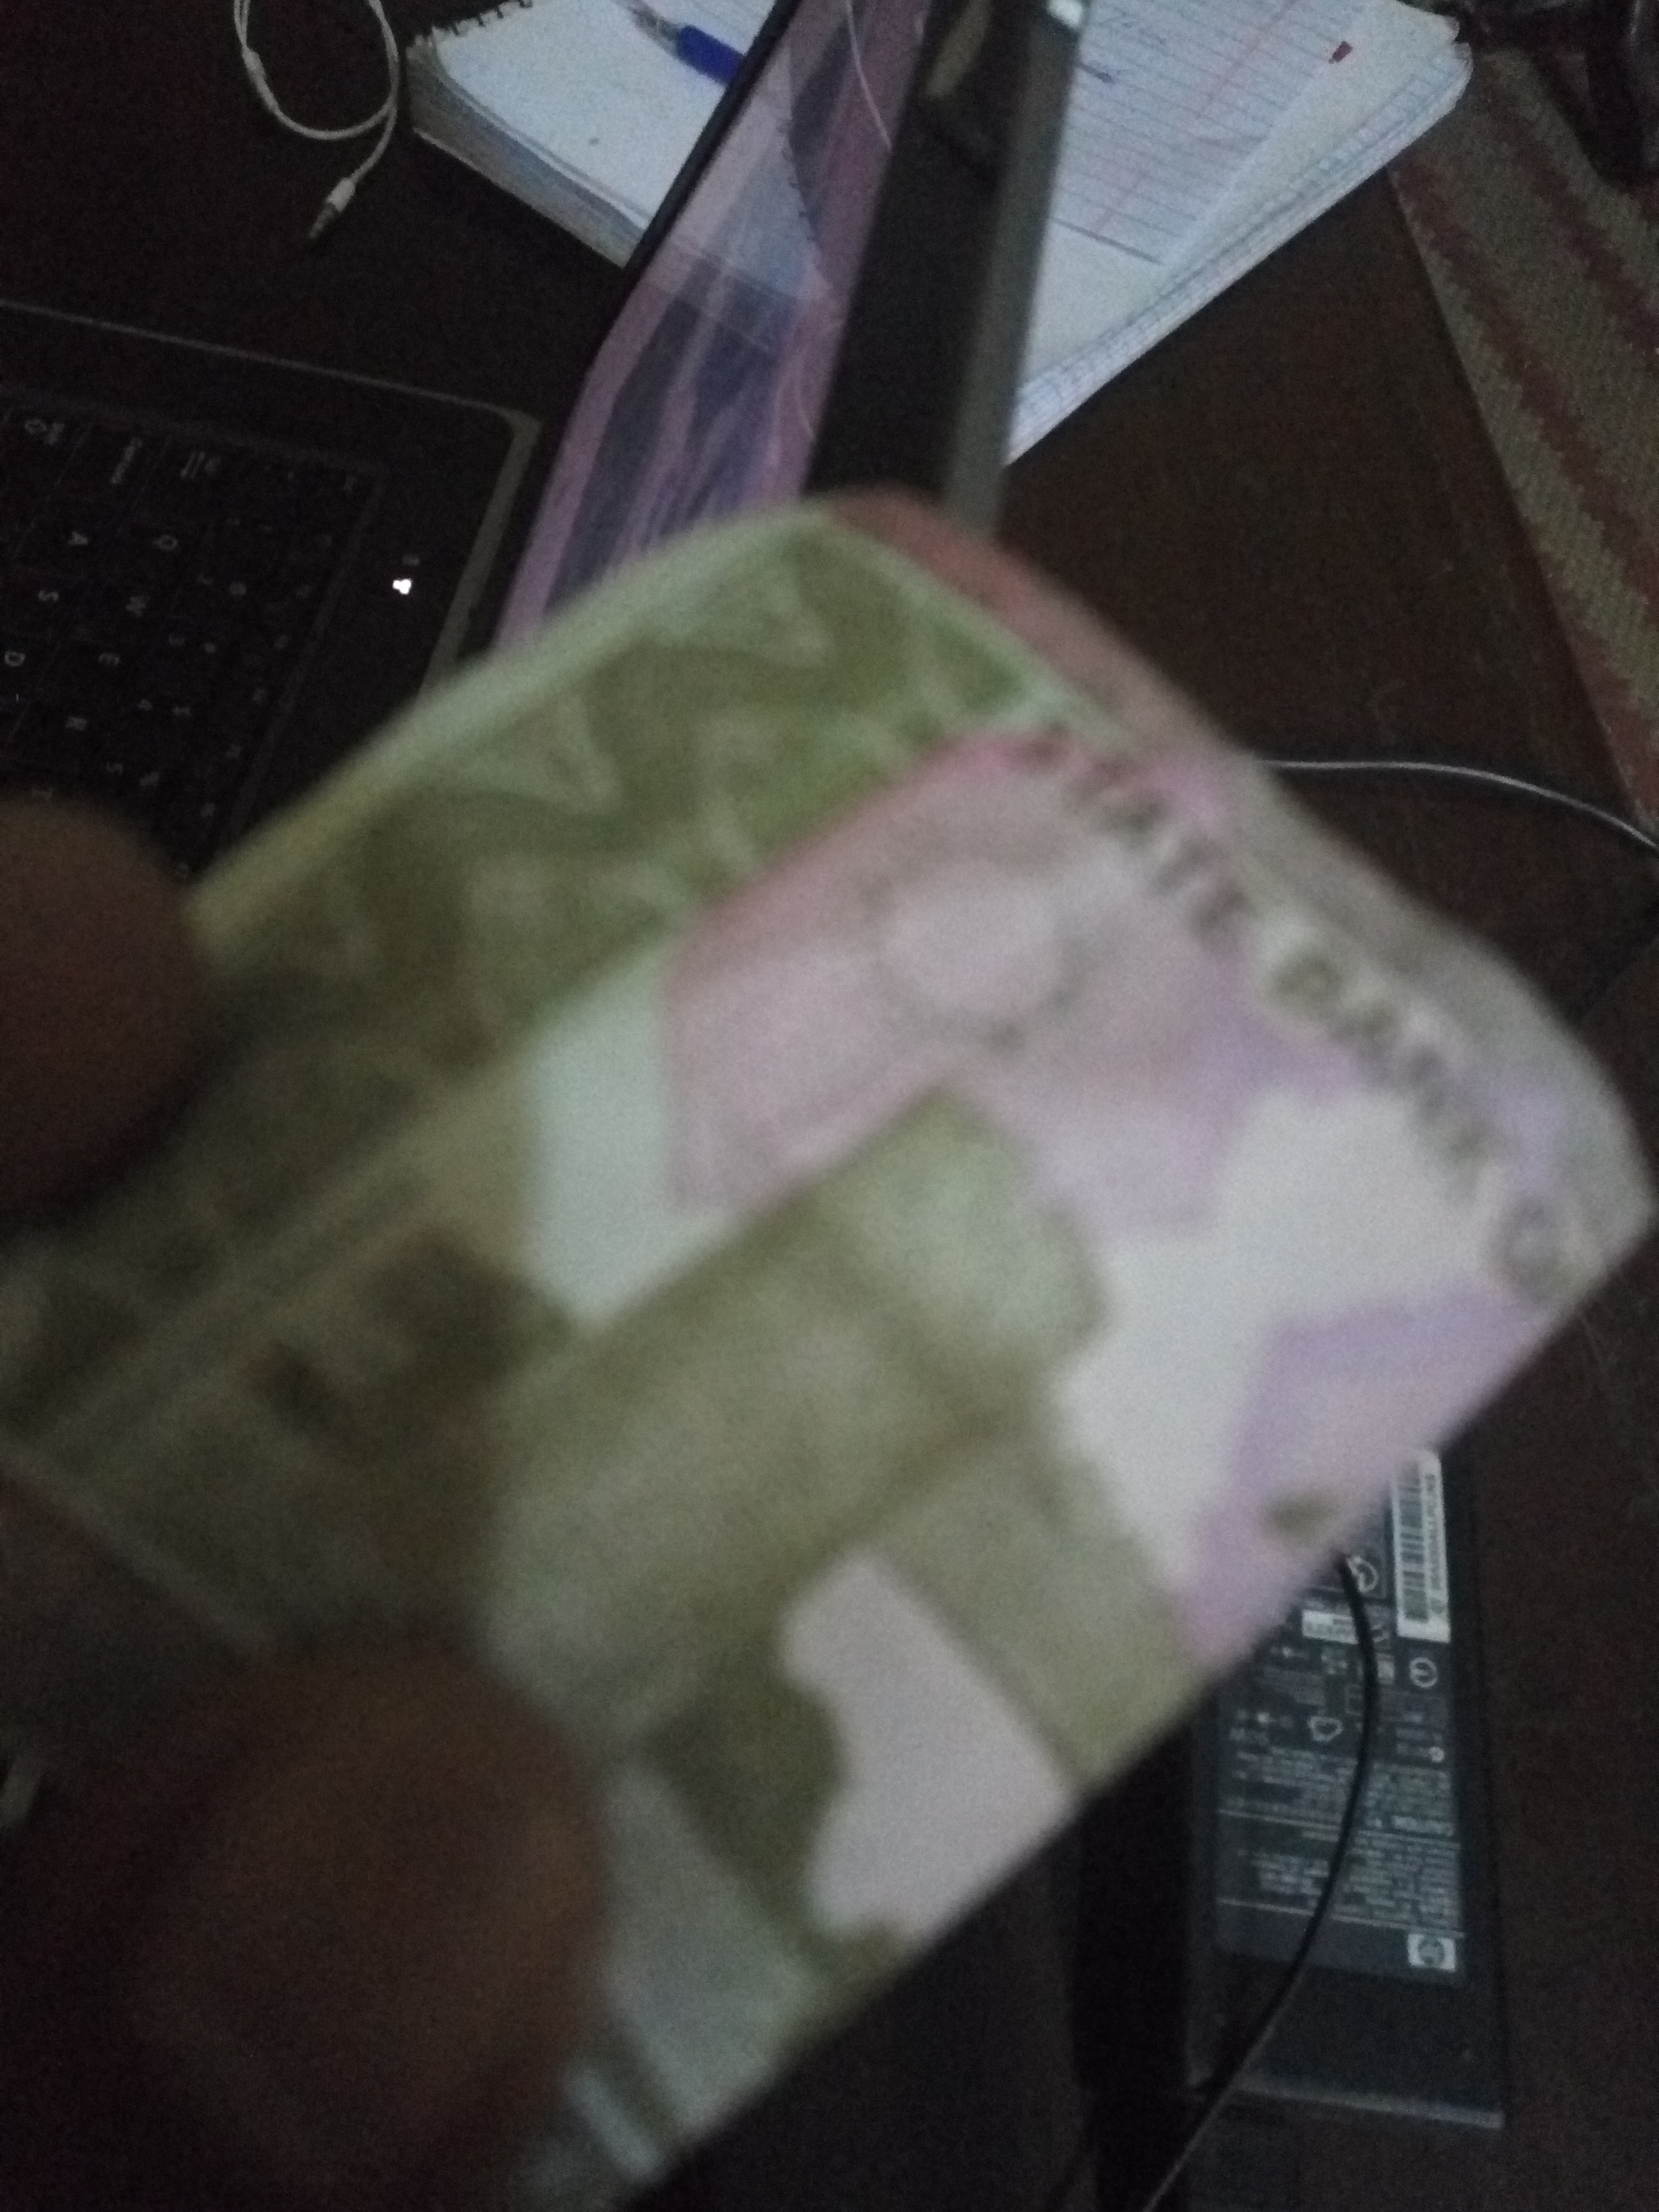10 rupee: (0, 509, 1654, 2146)
